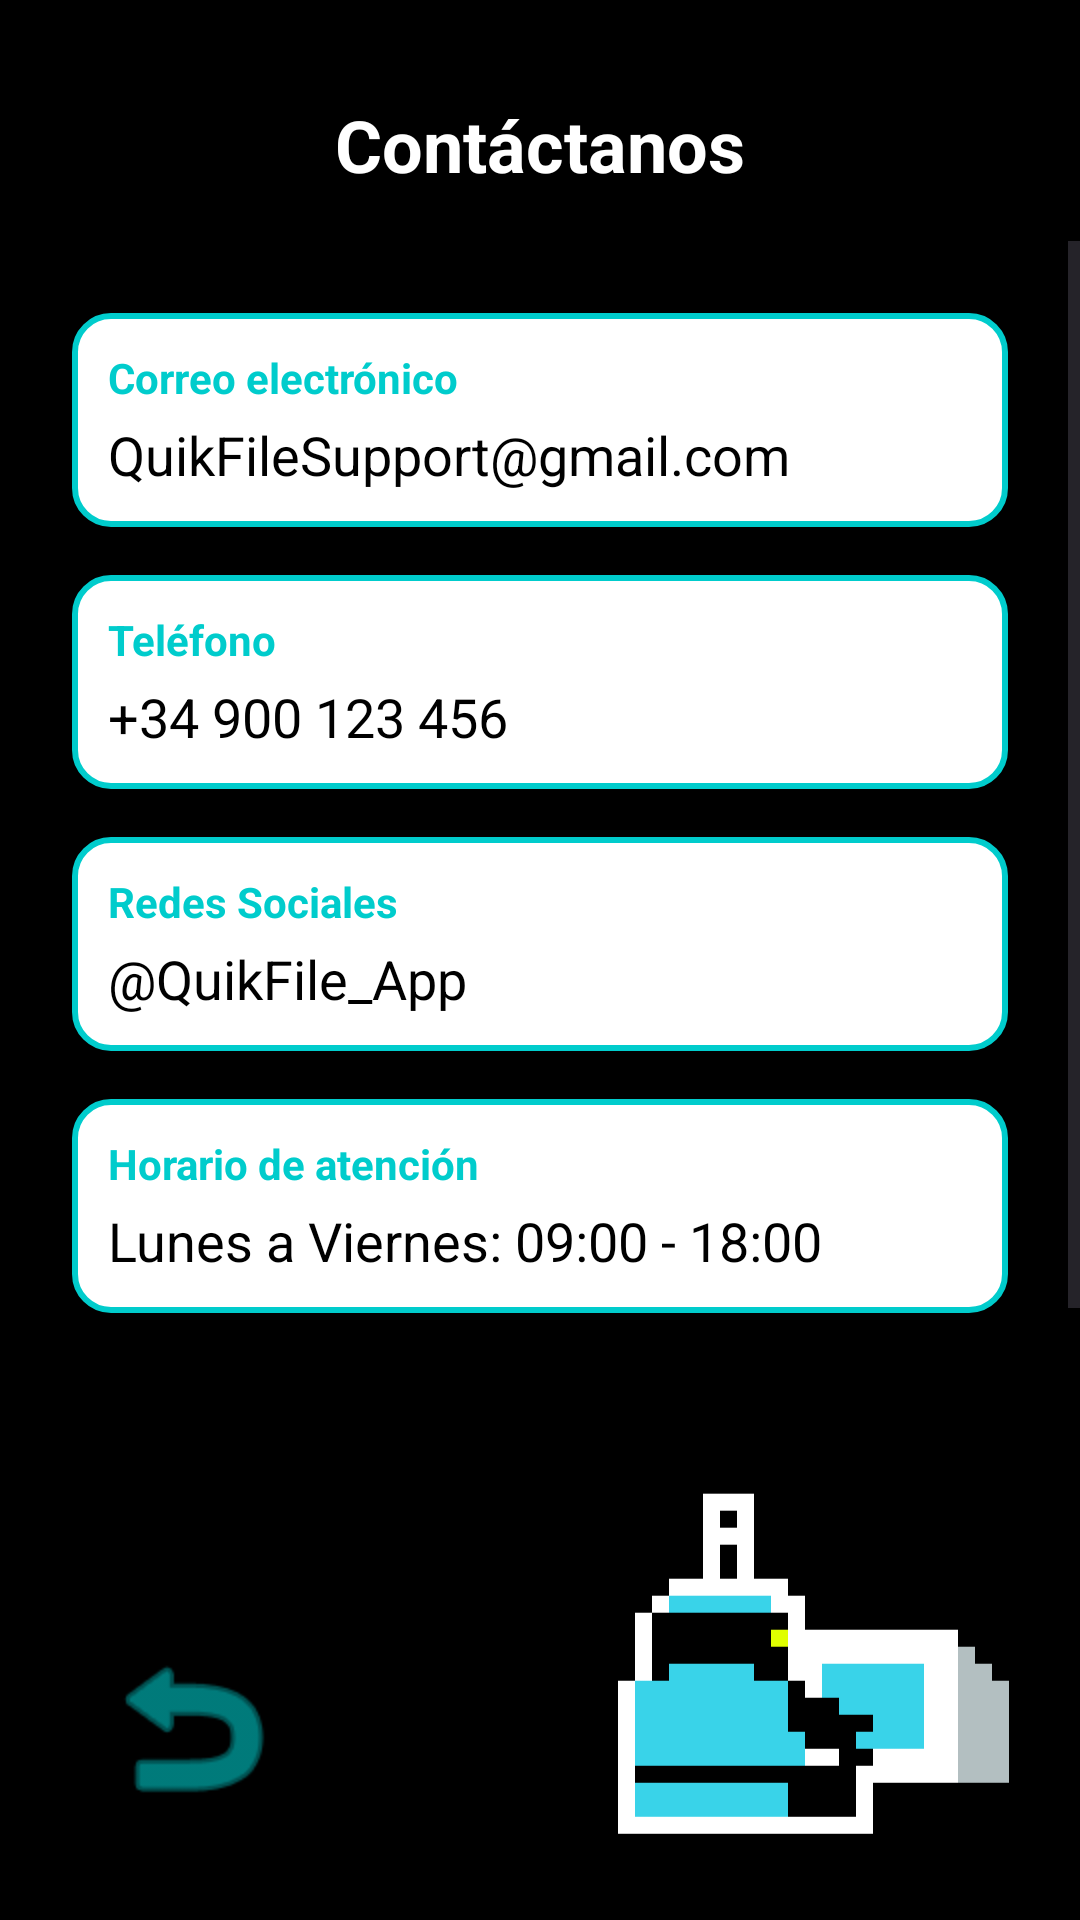

Icons on this 1080*1920 Android screen, each with the point to tap as (x,y):
Atrás: (194,1729)
